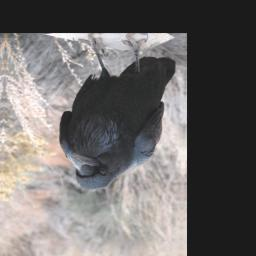Crow: (56, 35, 179, 193)
